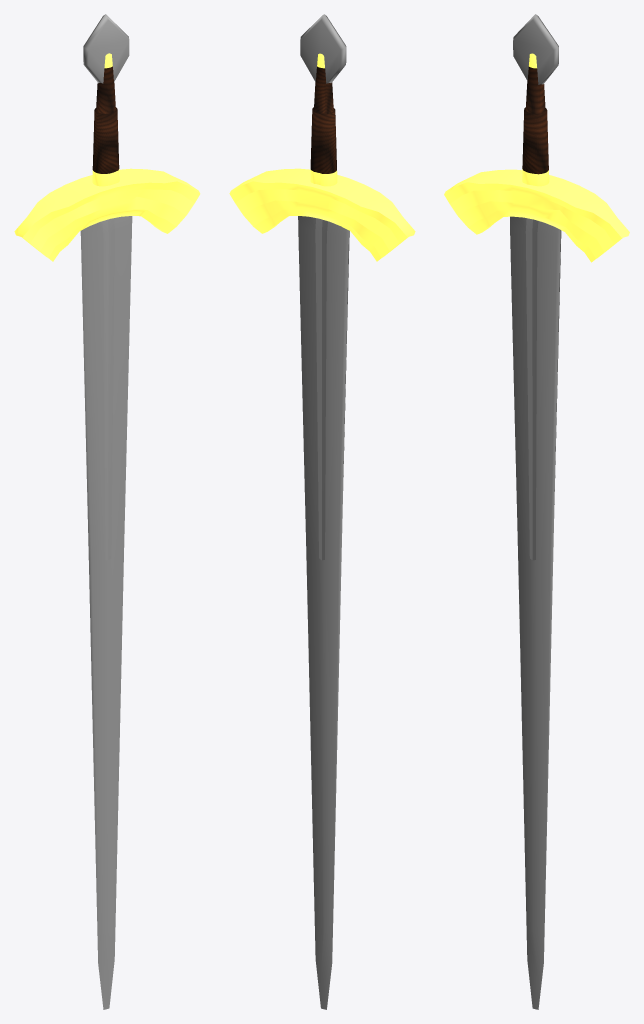
The model's file is Sword.fbx.
3 renders of one model, left to right at view 1: azimuth 30°, elevation 25°; view 2: azimuth 150°, elevation 25°; view 3: azimuth 330°, elevation 25°, orthographic.
Parts seen in each view (by area): view 1: Blade, Hilt, Handle, Cube; view 2: Blade, Hilt, Handle, Cube; view 3: Blade, Hilt, Handle, Cube.
Part boxes in pixels (x1,y1,x2,y2): Blade: (80,216,132,1009); Hilt: (14,168,200,261); Handle: (92,53,119,186); Cube: (83,14,129,83); Blade: (298,216,349,1009); Hilt: (229,168,415,261); Handle: (310,53,337,186); Cube: (300,14,346,83); Blade: (510,216,561,1009); Hilt: (444,169,629,262); Handle: (522,53,549,186); Cube: (513,14,558,84).
Size of the model in its own units: 0.6479 by 3.37 by 0.1172.
Materials: 3 (1 with a texture image).
